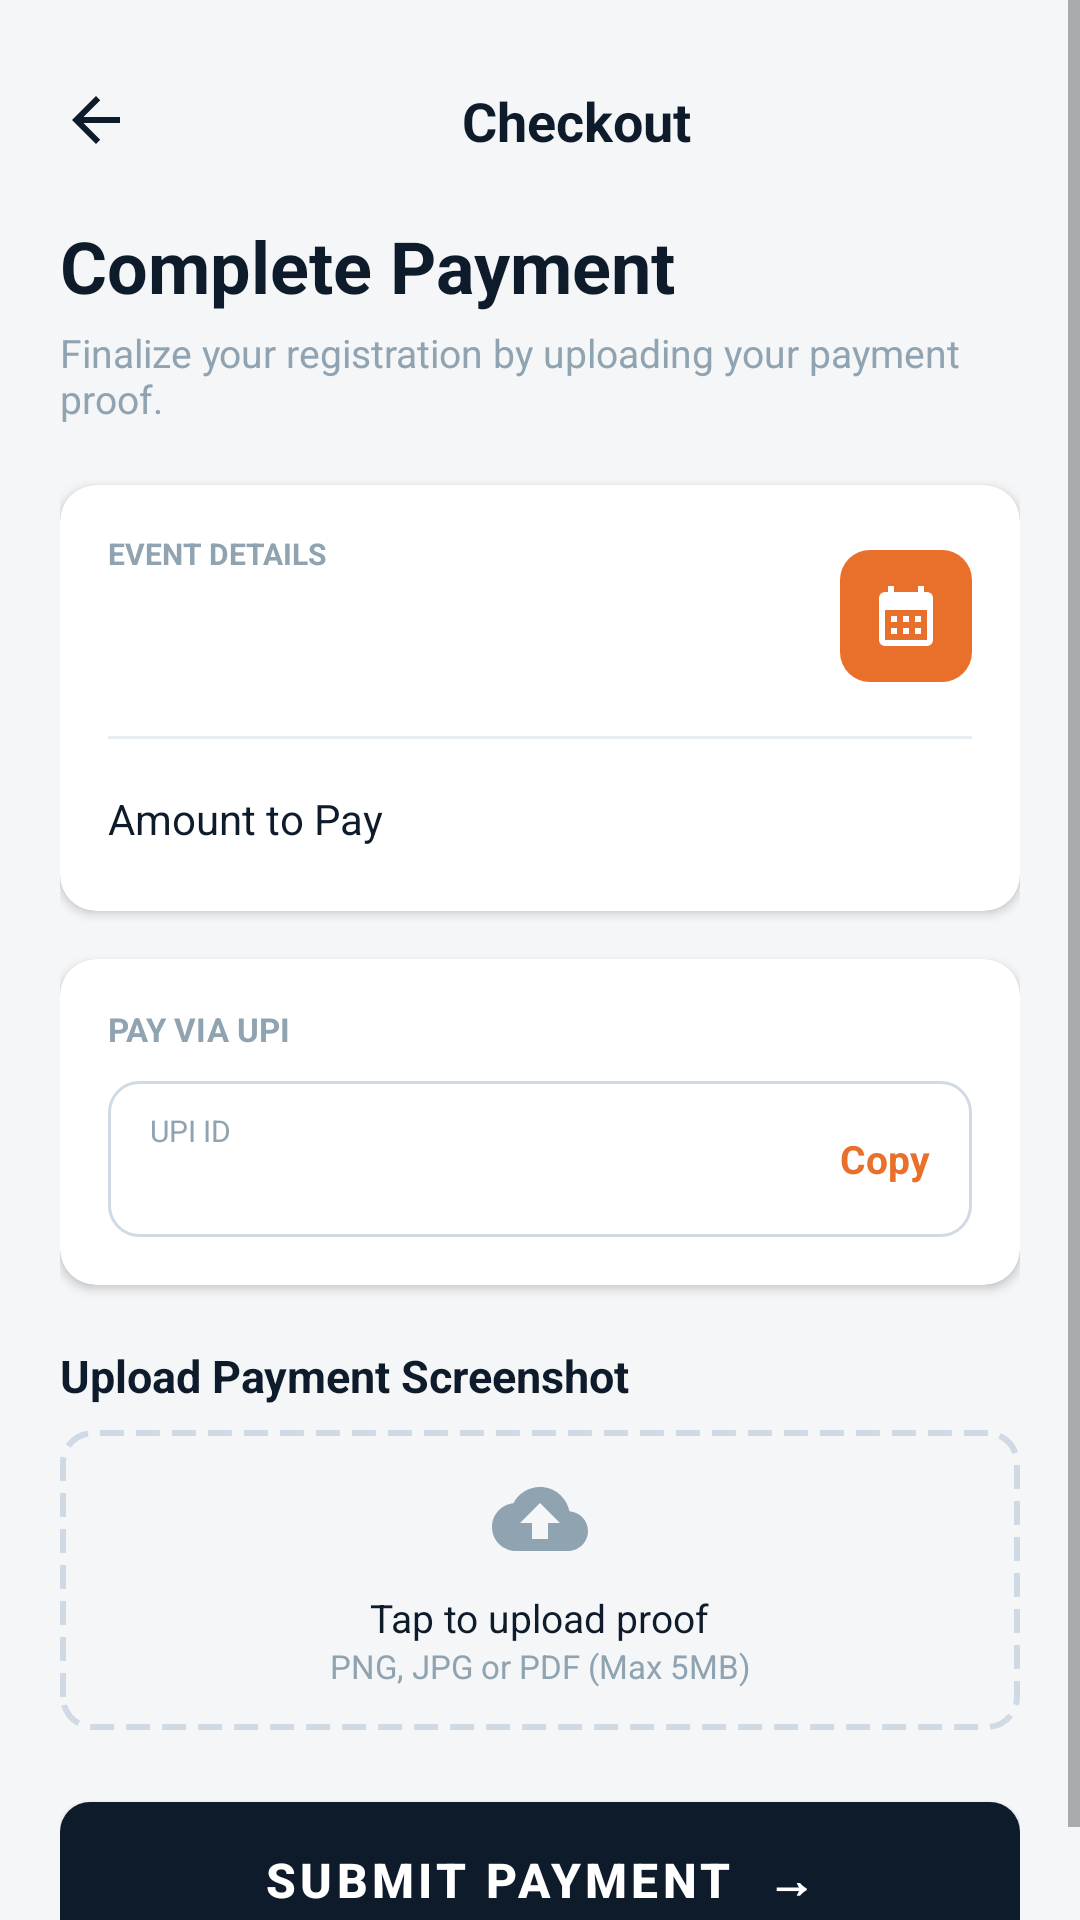

Icon click points for this 1080×1920 phone screenshot, format point (x, y):
arrow back: point (96, 120)
